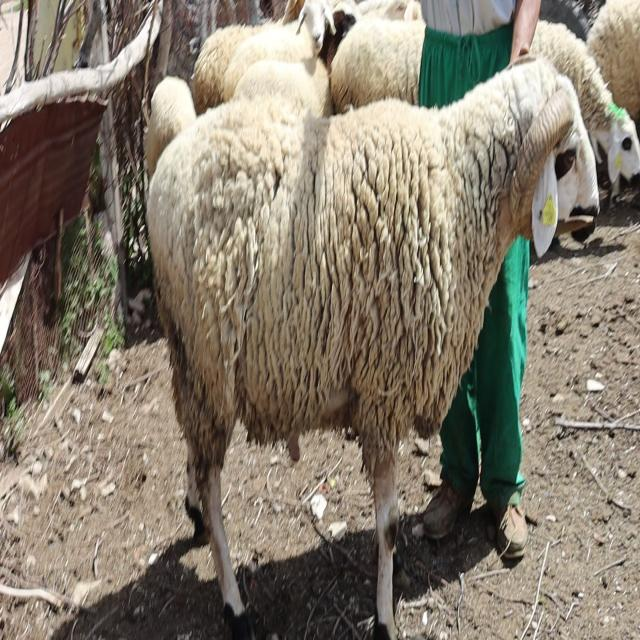Score_5: (147, 56, 599, 639)
